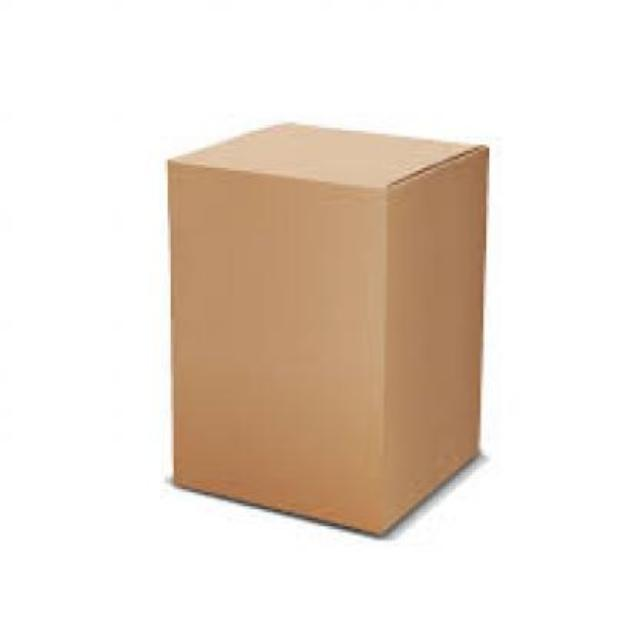cardboard_box: (163, 126, 499, 530)
